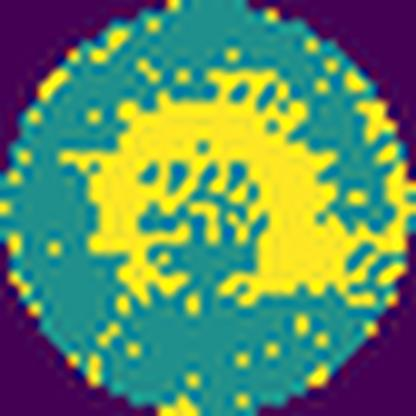Donut: (72, 64, 368, 312)
